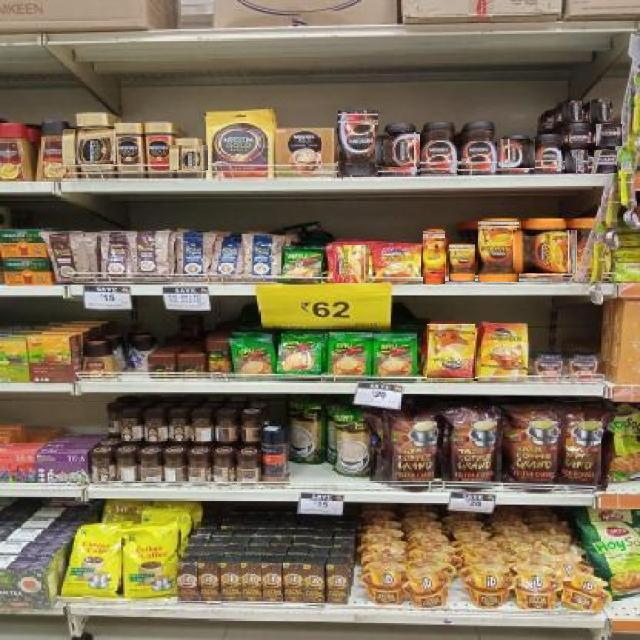Coffee: (513, 229, 577, 273), (337, 110, 378, 175), (427, 323, 475, 378), (479, 324, 526, 379), (478, 220, 519, 282), (62, 128, 128, 164), (420, 123, 458, 175), (463, 123, 499, 174), (376, 132, 426, 167), (376, 247, 418, 283), (116, 123, 142, 178), (334, 244, 369, 283), (423, 230, 445, 284), (496, 140, 535, 168), (534, 135, 562, 173), (448, 244, 475, 281), (169, 145, 208, 170), (595, 123, 622, 146), (593, 149, 617, 173), (565, 124, 590, 146), (590, 97, 610, 123), (566, 150, 588, 173), (562, 100, 582, 122)
